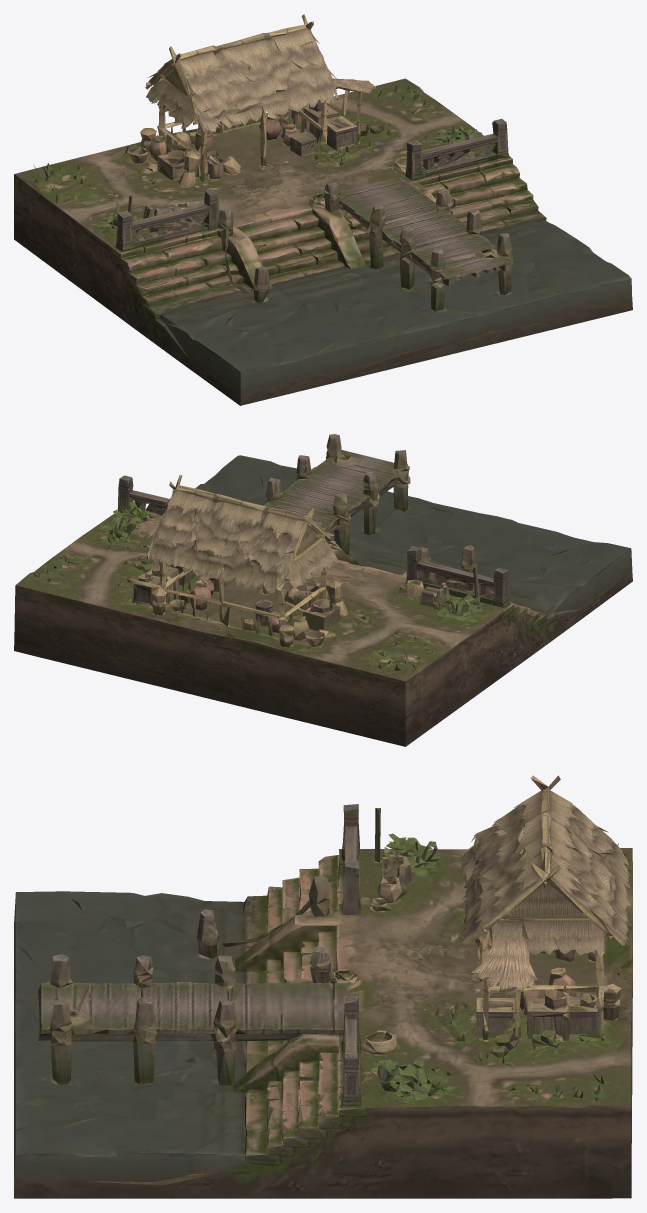
File: port.glb
3 renders of one model, top to bottom at view 1: azimuth 30°, elevation 25°; view 2: azimuth 150°, elevation 25°; view 3: azimuth 270°, elevation 25°, orthographic. The views are drawn at different scales.
Parts seen in each view (by area): view 1: output_unwrapped; view 2: output_unwrapped; view 3: output_unwrapped.
Boxes of the visible parts, x1=… form: output_unwrapped: x1=14, y1=14, x2=632, y2=405; output_unwrapped: x1=14, y1=434, x2=632, y2=746; output_unwrapped: x1=14, y1=775, x2=632, y2=1198.
Size of the model in its own units: 1.9 by 0.8382 by 1.9.
1 material, 1 textured.
